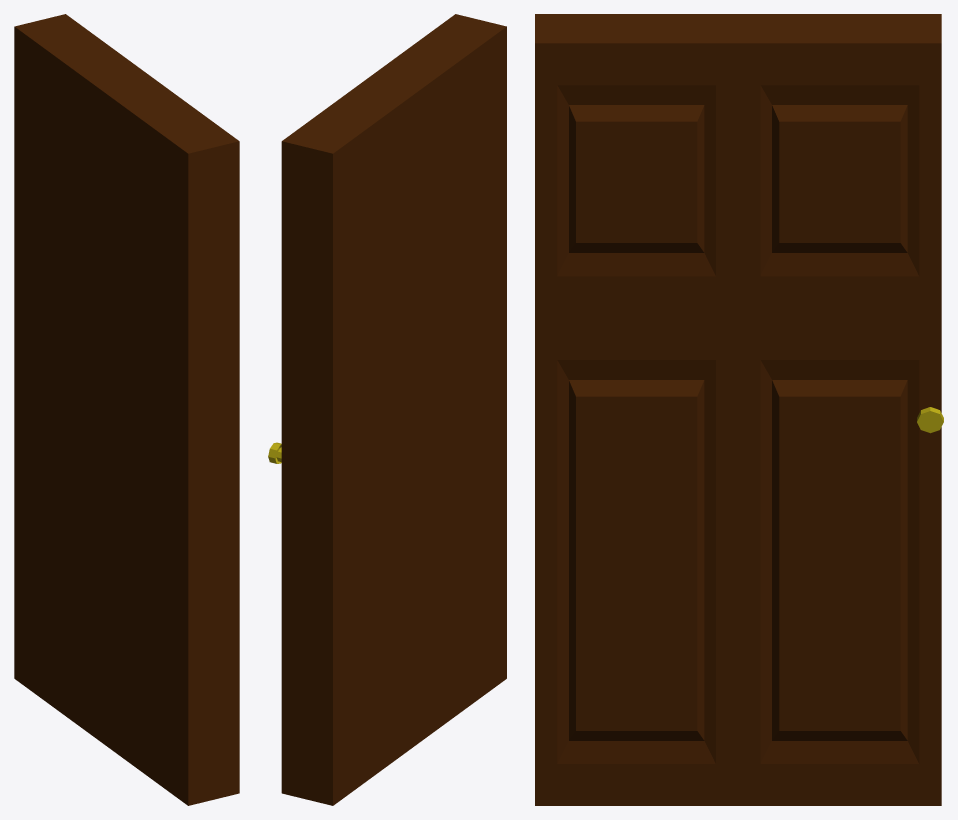
The model's file is door.glb.
The picture shows the model from 3 angles, left to right: view 1: azimuth 30°, elevation 25°; view 2: azimuth 150°, elevation 25°; view 3: azimuth 270°, elevation 25°; orthographic projection. The views are drawn at different scales.
Visible parts, largest first — view 1: Door; view 2: Door; view 3: Door.
Part boxes in pixels (x1=…): Door: x1=14, y1=14, x2=239, y2=805; Door: x1=281, y1=14, x2=506, y2=805; Door: x1=535, y1=14, x2=941, y2=805.
Bounding box in the file's own units: 0.2052 × 2 × 0.9718.
